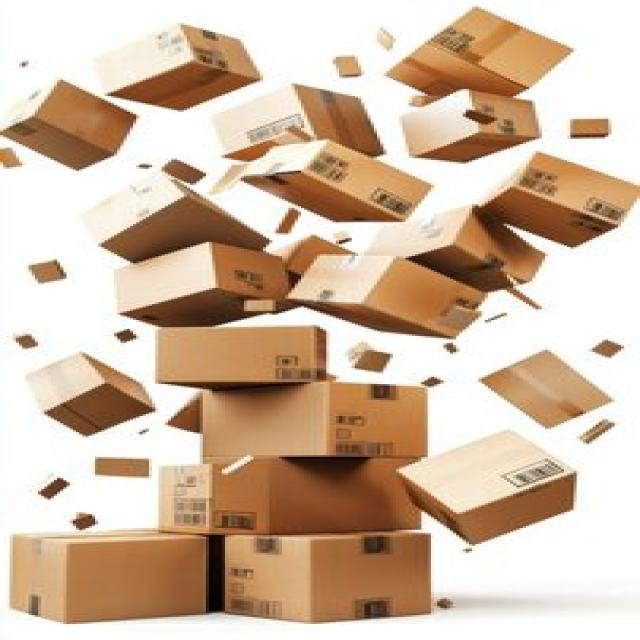box: (207, 522, 458, 618), (141, 454, 431, 534), (198, 372, 448, 460), (243, 132, 452, 236), (21, 526, 216, 628), (143, 310, 364, 391), (306, 236, 490, 332), (415, 441, 574, 551), (51, 173, 276, 247), (89, 250, 299, 327), (390, 197, 567, 287), (0, 76, 152, 166), (99, 26, 254, 108), (215, 94, 414, 156), (425, 10, 575, 90), (408, 82, 538, 172), (8, 355, 157, 433), (505, 339, 613, 436), (520, 147, 626, 240)
